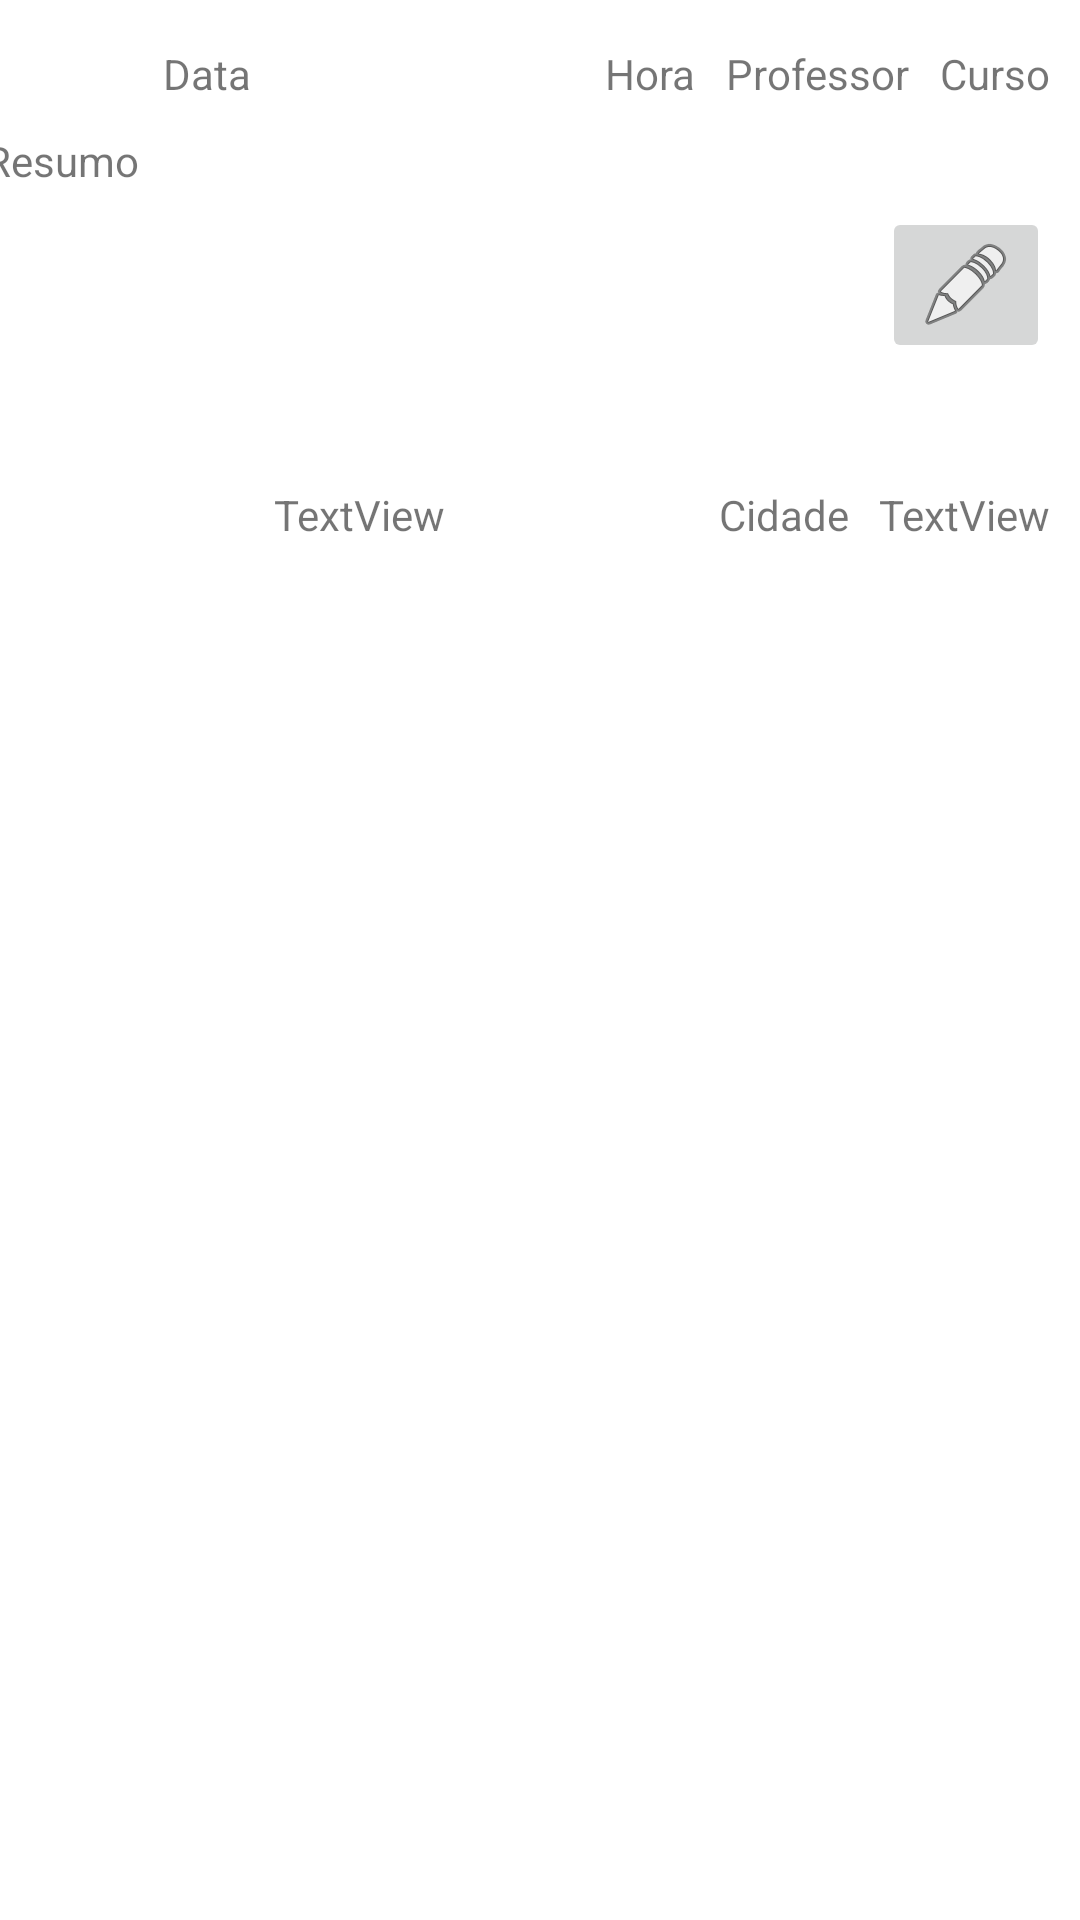

Locate icon controls on the screen. Image size 1080w x 1920h, boxes as (x1, y1, x2, y2).
edit: (894, 225, 1038, 345)
